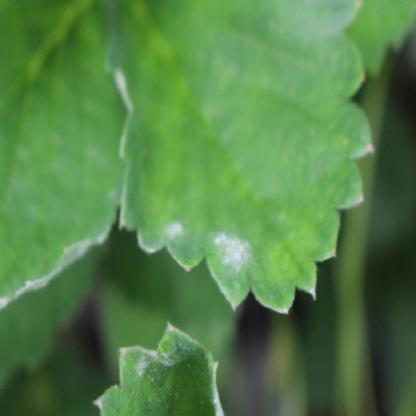Strawberry_Powdery_Mildew_Leaf: (98, 0, 375, 317), (0, 0, 126, 314), (90, 320, 224, 416)
